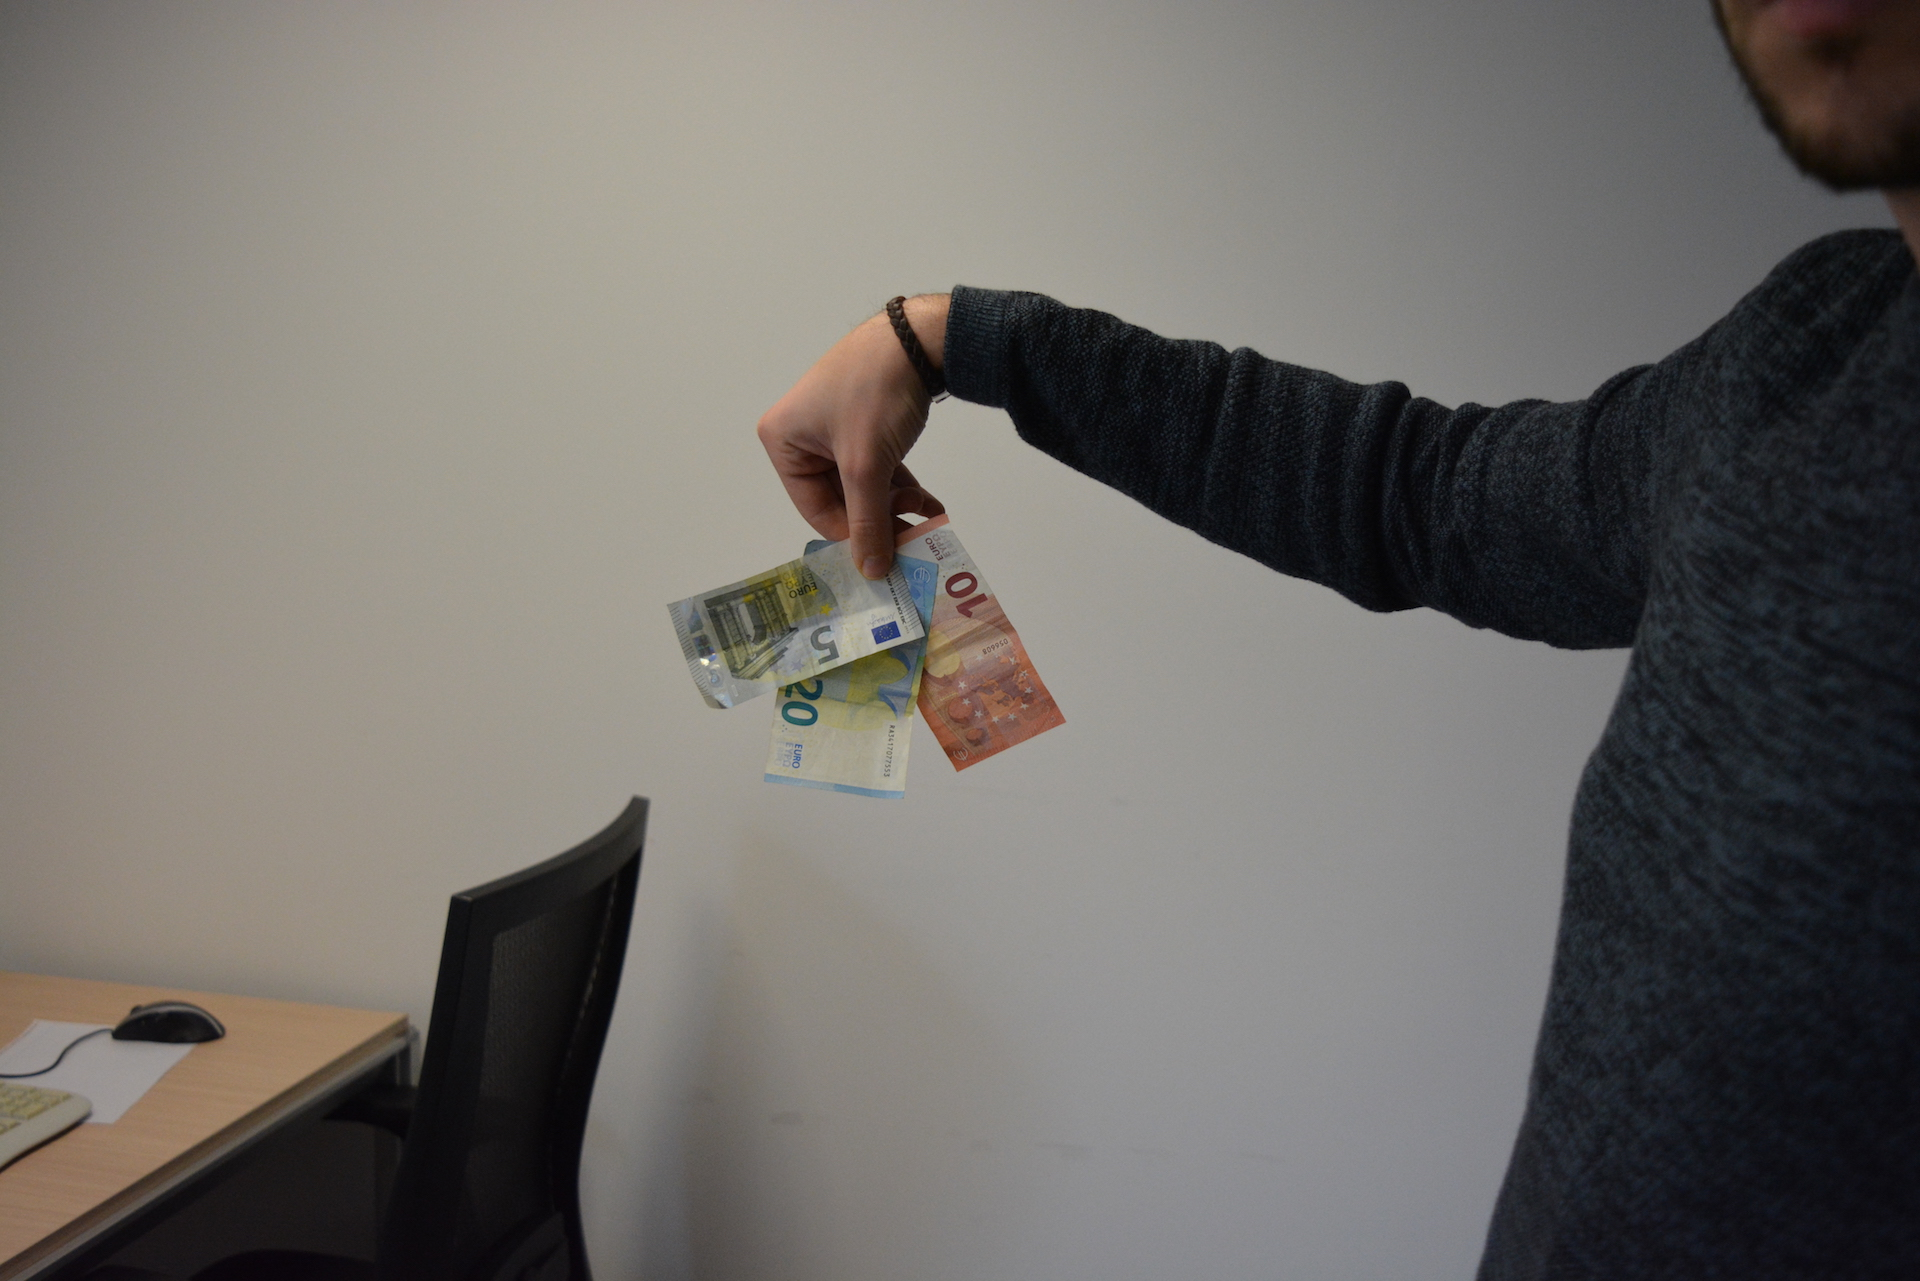billete: (763, 538, 941, 801), (892, 510, 1069, 773), (665, 536, 928, 711)
